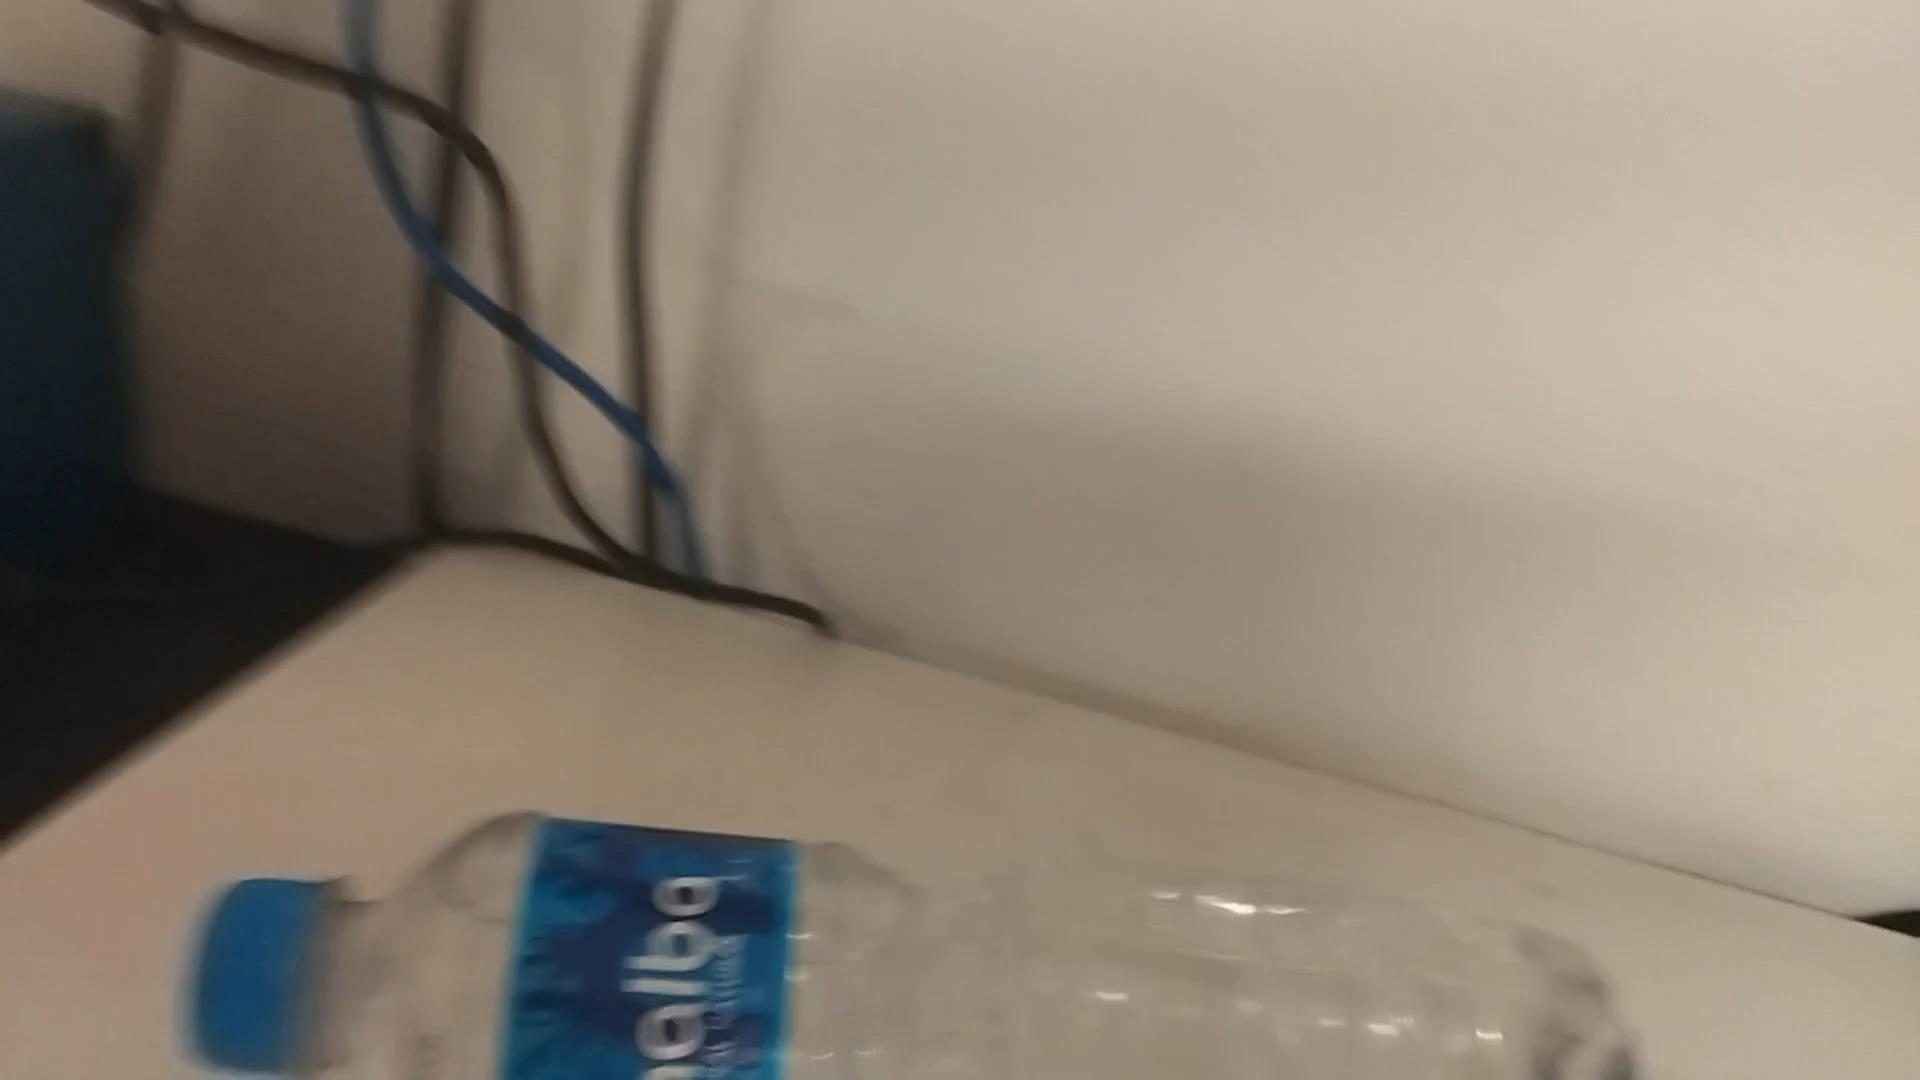agua: (200, 816, 1604, 1077)
